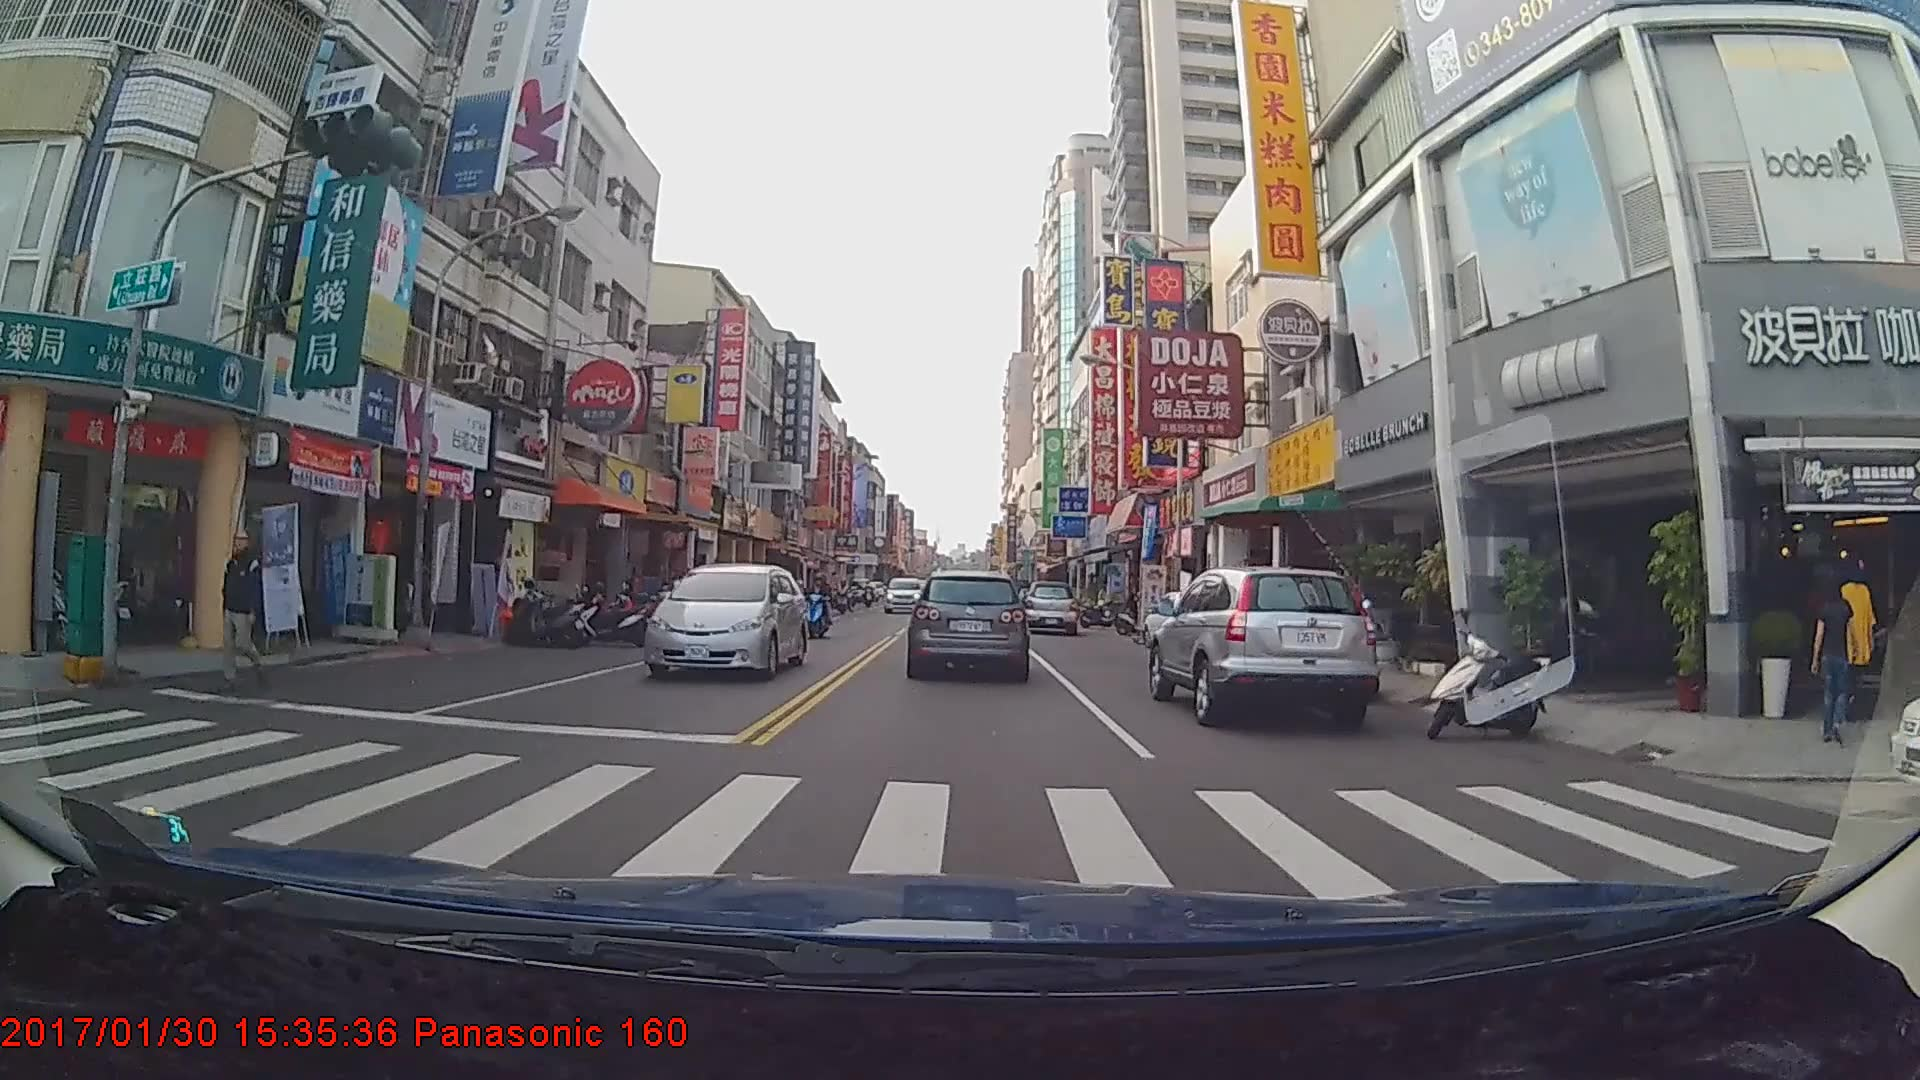pedestrian: (215, 531, 273, 694), (1809, 570, 1859, 752), (1825, 559, 1881, 721)
rider: (804, 573, 839, 640)
vehicle: (1146, 564, 1377, 728), (645, 562, 810, 680), (908, 568, 1027, 676), (1020, 580, 1077, 634), (881, 575, 925, 615)
